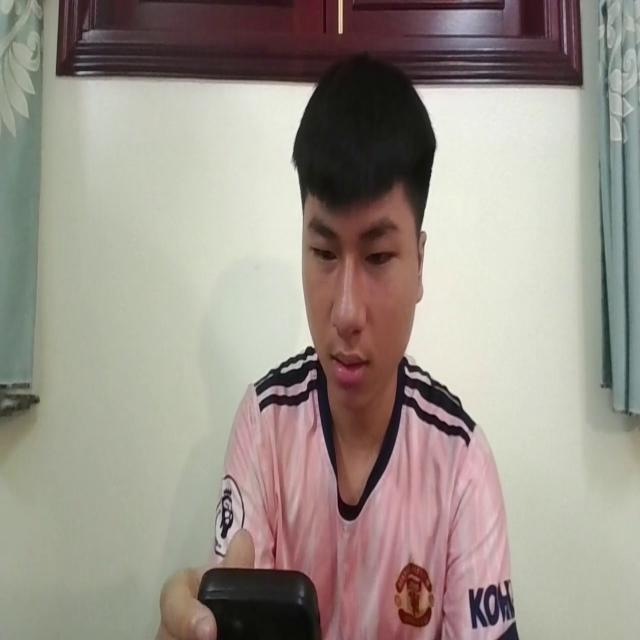phone: (194, 559, 324, 640)
student: (158, 52, 517, 640)
